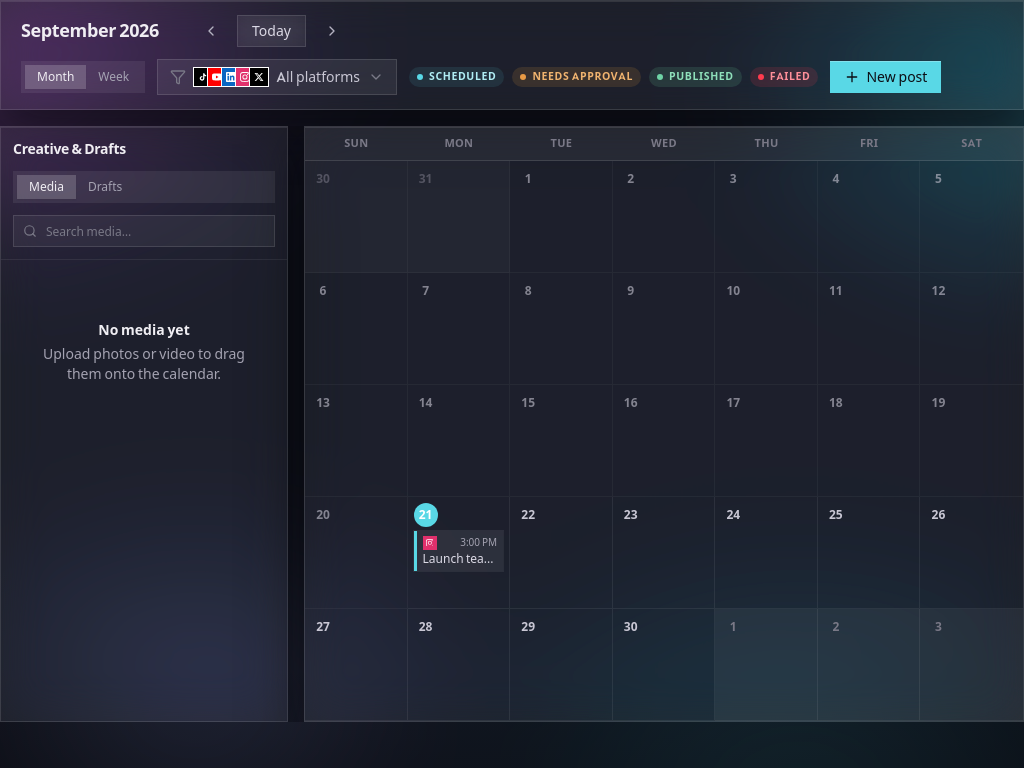
it: CalendarPage › shows a post peek with an Edit button when a chip is clicked
Step 1. Click the button "3:00 PM Launch teaser" → (458, 550), box [414,530,503,570]
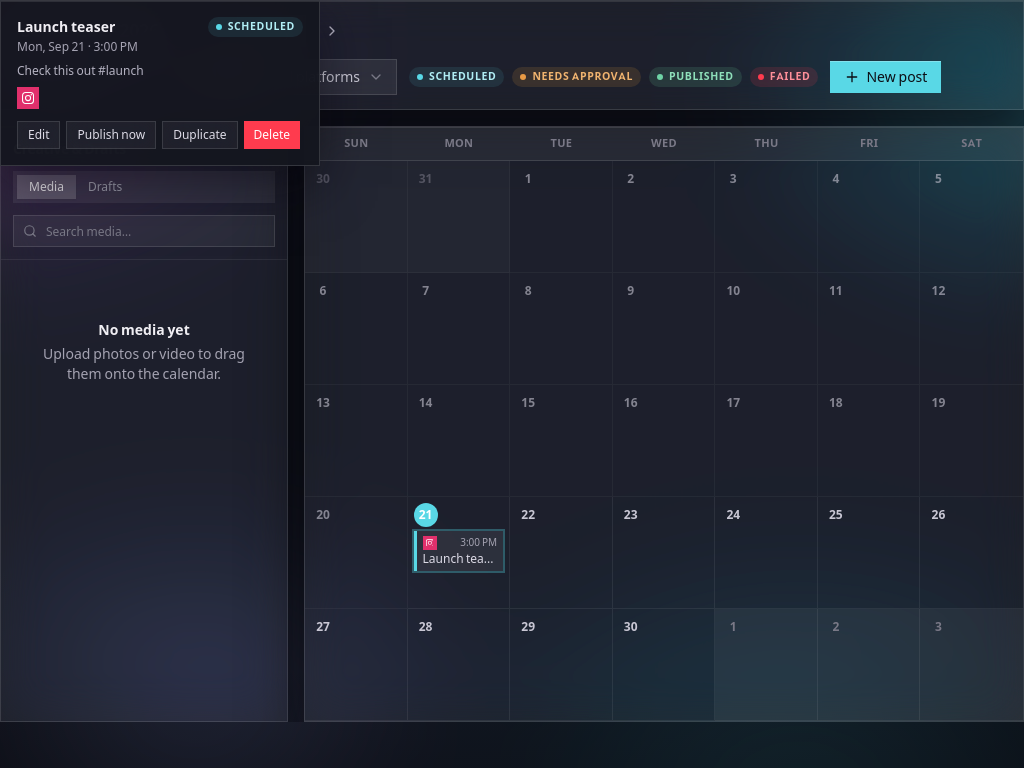
Expected: the button with aria-label "Edit post" is shown, [17,121,60,149]
